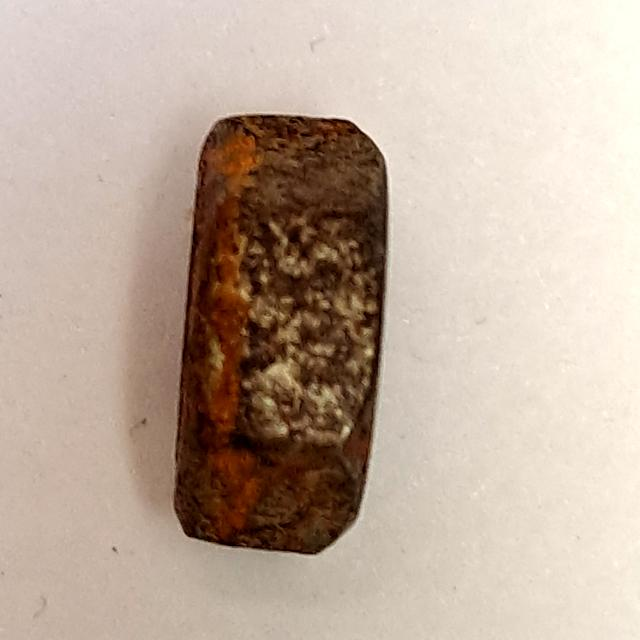Side_Rust: (151, 100, 415, 571)
